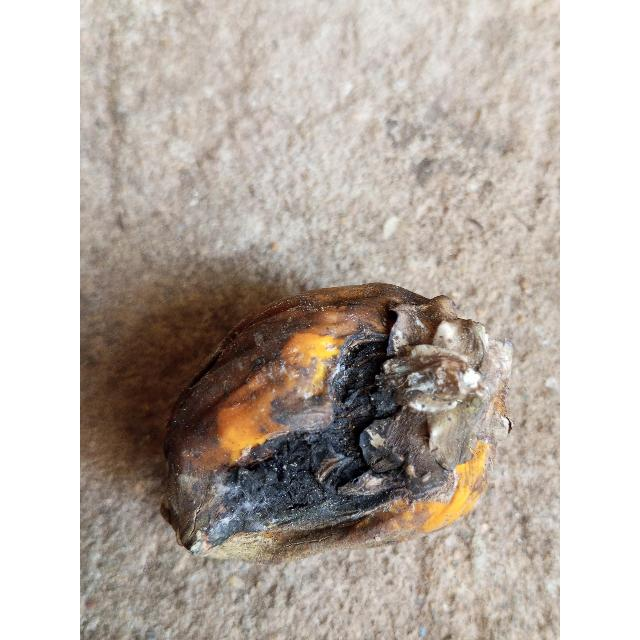damaged: (163, 283, 511, 563)
